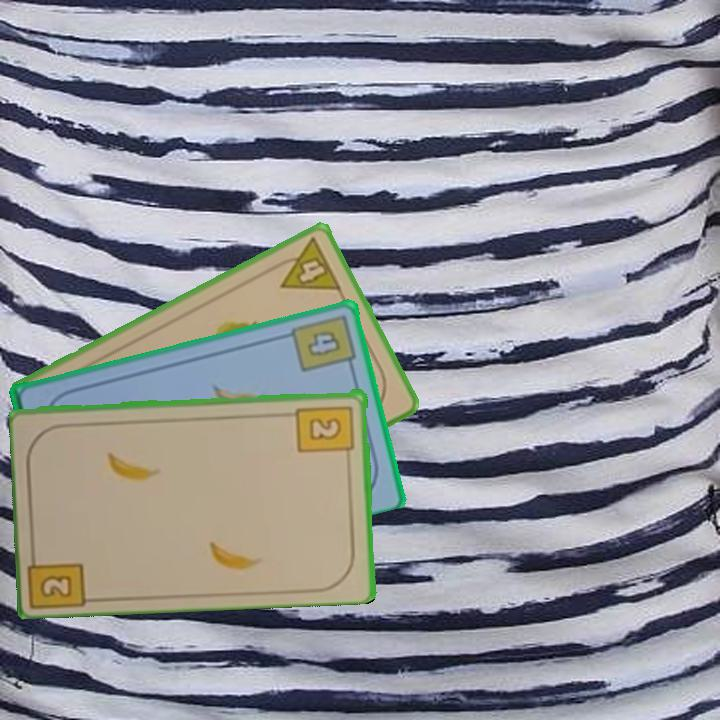2b: (28, 543, 91, 609), (294, 401, 357, 463)
4b: (288, 310, 358, 375)
4p: (267, 234, 345, 294)
